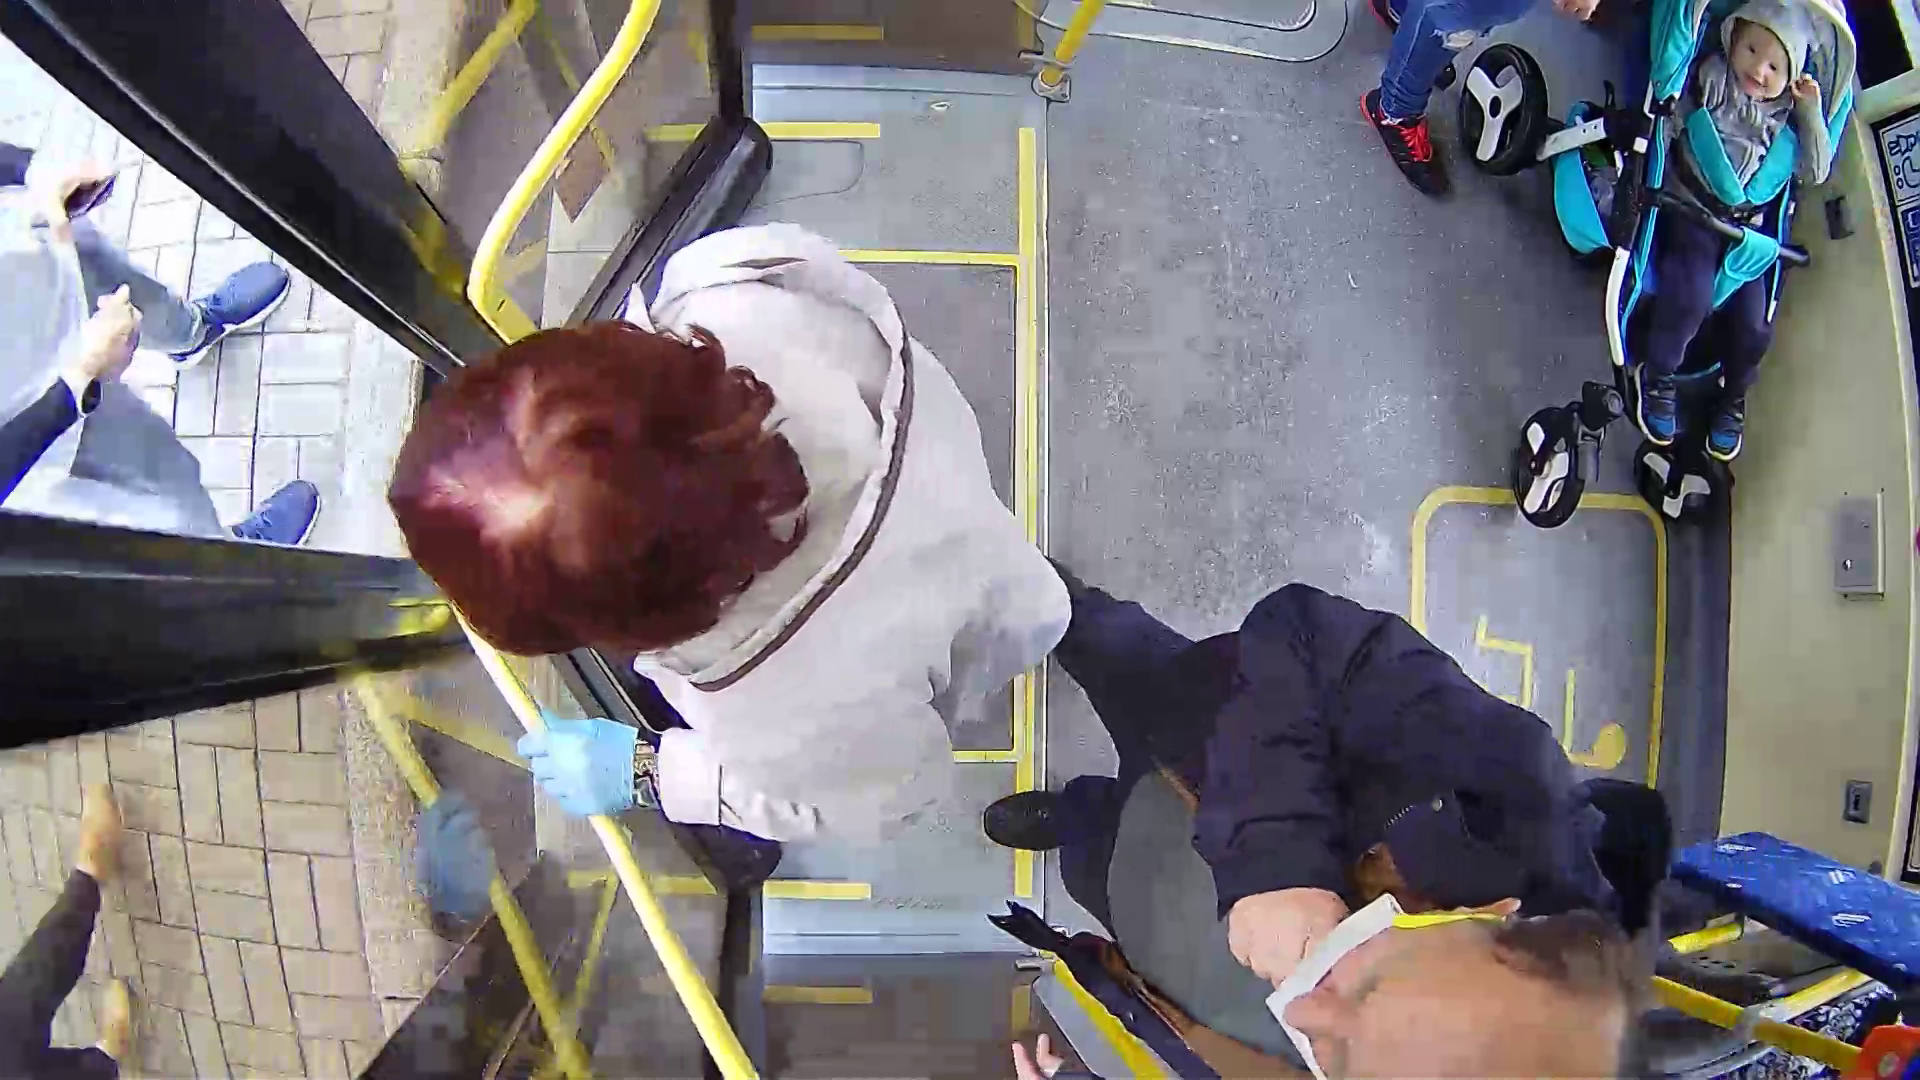person: (364, 215, 1088, 835), (1034, 505, 1721, 1080)
